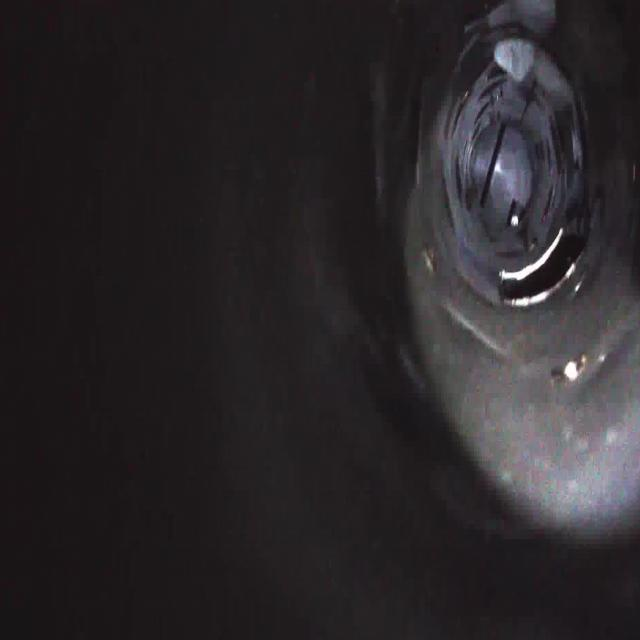crack: (432, 150, 466, 240), (548, 106, 578, 200), (474, 54, 512, 122), (442, 80, 474, 152), (512, 74, 548, 118), (479, 238, 532, 263)
hole: (492, 225, 592, 321)
